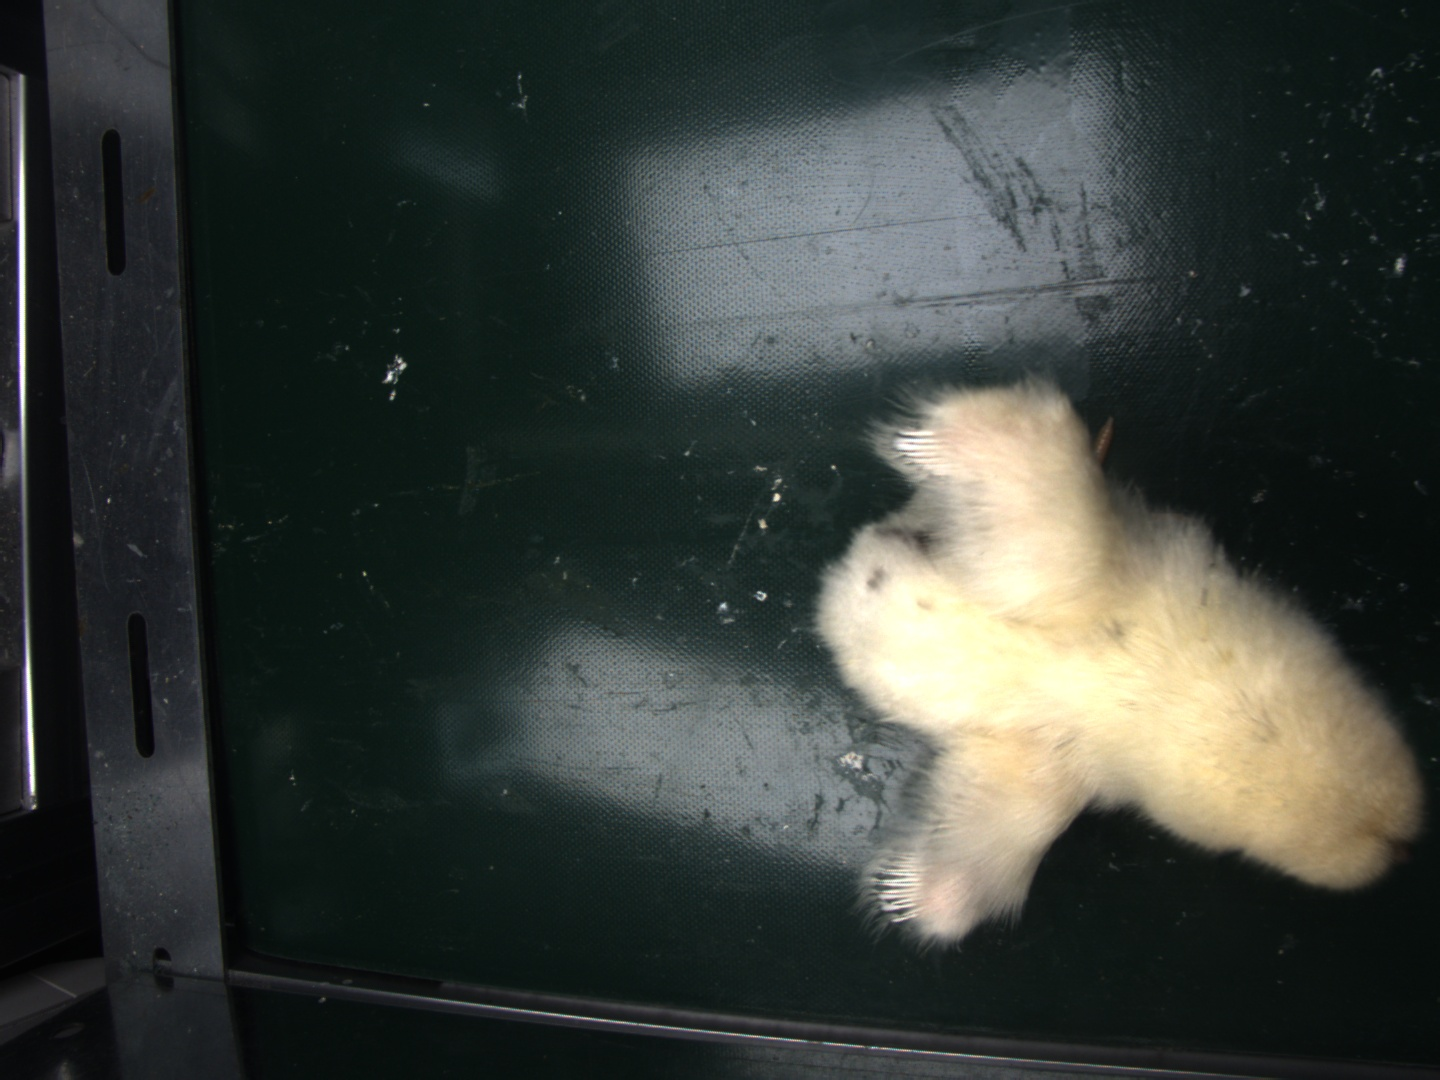male: (882, 854, 925, 922)
